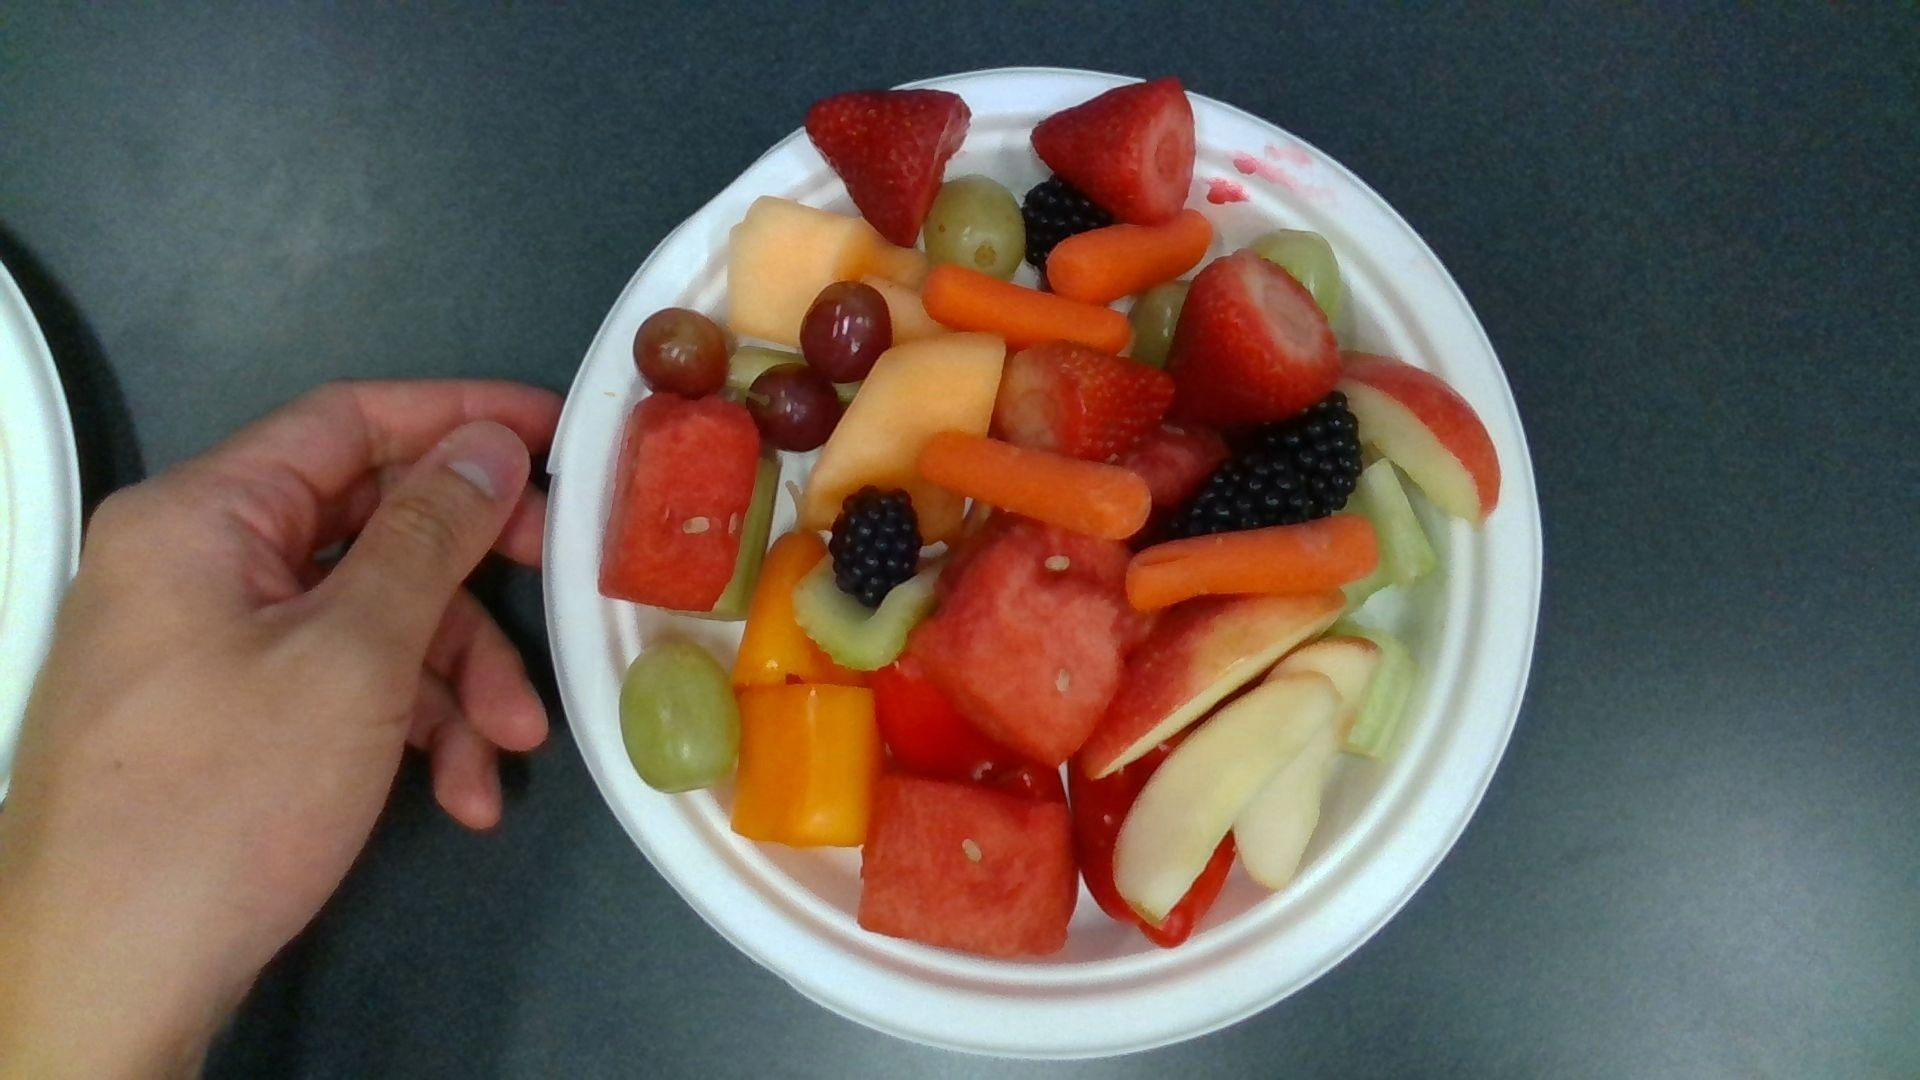apple: (1114, 676, 1338, 926), (1084, 593, 1344, 781), (1344, 356, 1499, 520)
bell_pepper: (735, 688, 870, 848)
blackberry: (1236, 398, 1357, 491), (835, 491, 916, 605)
cantalope: (804, 336, 1004, 533), (731, 198, 927, 340)
carrot: (916, 433, 1153, 535), (1127, 516, 1375, 611), (924, 266, 1131, 345), (1047, 216, 1209, 301)
grape_green: (622, 640, 737, 790), (928, 181, 1025, 276)
grape_purple: (804, 281, 890, 381), (636, 310, 732, 398), (752, 367, 843, 454)
melon: (914, 527, 1155, 764), (858, 766, 1077, 957), (600, 396, 760, 608)
strawberry: (1167, 255, 1338, 425), (804, 91, 972, 243), (1033, 80, 1193, 222), (996, 349, 1175, 458)
